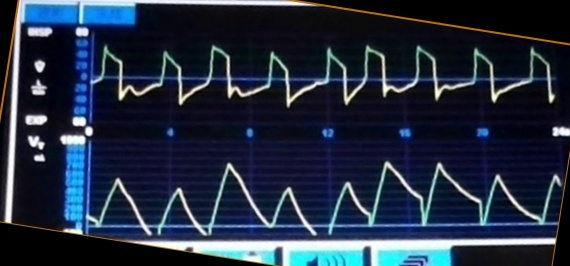Premature_cycling Flow: (91, 41, 557, 109)
Premature_cycling Volume: (91, 158, 561, 237)
